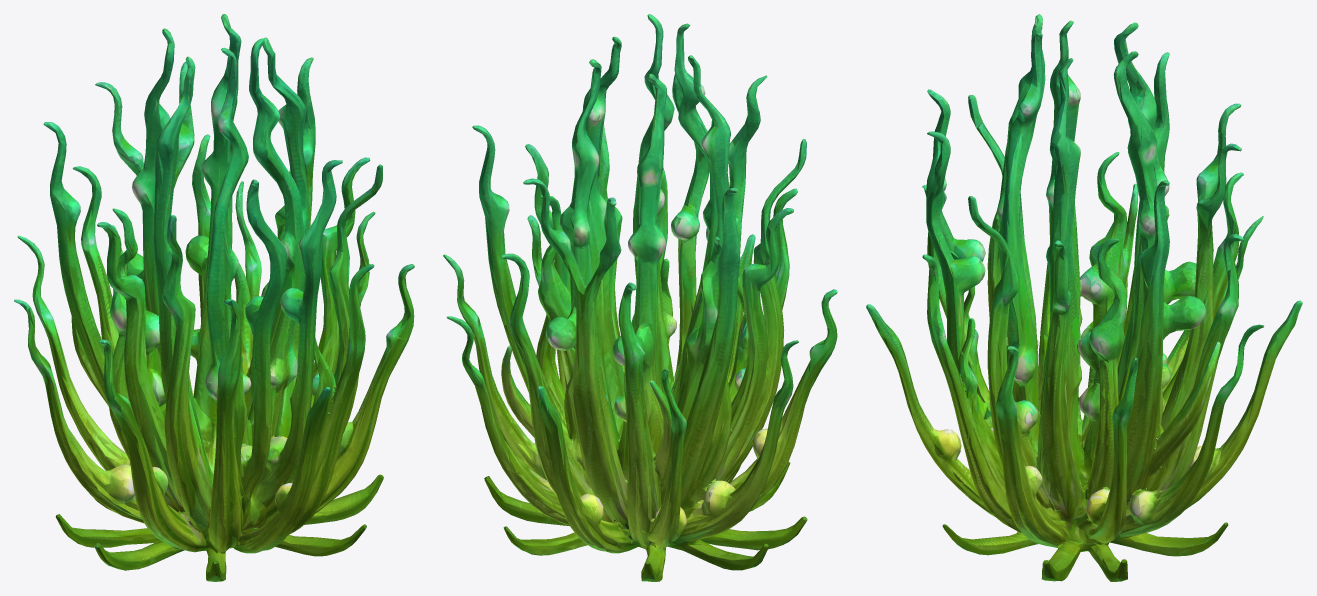
Rendered from glow_kelp.glb.
3 views of the same model, side by side, from view 1: azimuth 30°, elevation 25°; view 2: azimuth 150°, elevation 25°; view 3: azimuth 270°, elevation 25° (orthographic).
Size of the model in its own units: 1.42 by 1.9 by 1.49.
Materials: 1 (1 with a texture image).
